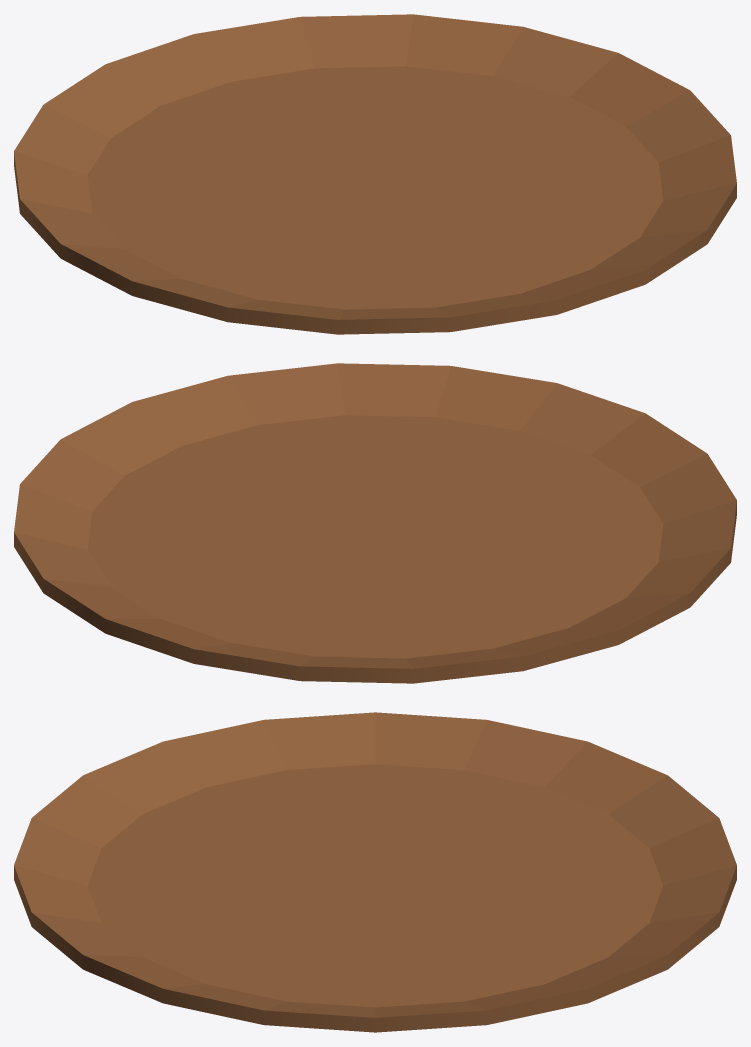
The model's file is circleplate.fbx.
3 views of the same model, one above another, from view 1: azimuth 30°, elevation 25°; view 2: azimuth 150°, elevation 25°; view 3: azimuth 270°, elevation 25° (orthographic).
Visible parts, largest first — view 1: pCylinder3; view 2: pCylinder3; view 3: pCylinder3.
Part boxes in pixels (x1,y1,x2,y2): pCylinder3: [14, 14, 736, 334]; pCylinder3: [14, 363, 736, 683]; pCylinder3: [14, 712, 736, 1032].
Bounding box in the file's own units: 17.78 × 0.8779 × 17.78.
